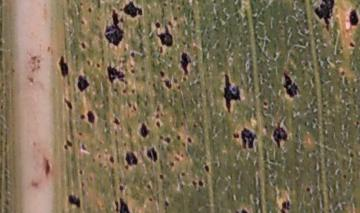tarspot: (221, 70, 241, 112), (103, 5, 122, 48), (313, 1, 335, 34), (280, 68, 301, 100), (269, 120, 290, 148), (240, 125, 257, 155), (104, 62, 126, 85), (175, 50, 194, 75), (54, 54, 72, 80), (122, 1, 145, 20), (154, 29, 177, 48), (65, 191, 84, 209), (113, 195, 131, 213), (123, 150, 140, 168), (76, 73, 90, 94), (84, 108, 98, 128), (137, 120, 151, 140), (145, 144, 159, 164), (348, 6, 360, 29), (277, 197, 293, 213), (63, 94, 73, 113), (61, 138, 74, 151), (111, 115, 122, 127), (77, 40, 89, 51), (161, 198, 172, 209), (164, 78, 173, 91), (203, 161, 211, 175), (144, 182, 154, 193), (232, 130, 241, 142), (348, 37, 355, 52), (304, 184, 312, 197), (127, 50, 138, 59), (197, 176, 205, 188), (168, 159, 175, 172), (107, 155, 116, 165), (152, 20, 162, 29), (158, 68, 167, 78), (77, 112, 86, 122), (190, 179, 198, 190), (117, 184, 126, 193), (163, 135, 171, 145), (158, 172, 166, 182), (174, 132, 181, 143), (185, 136, 193, 144), (155, 120, 161, 130)
